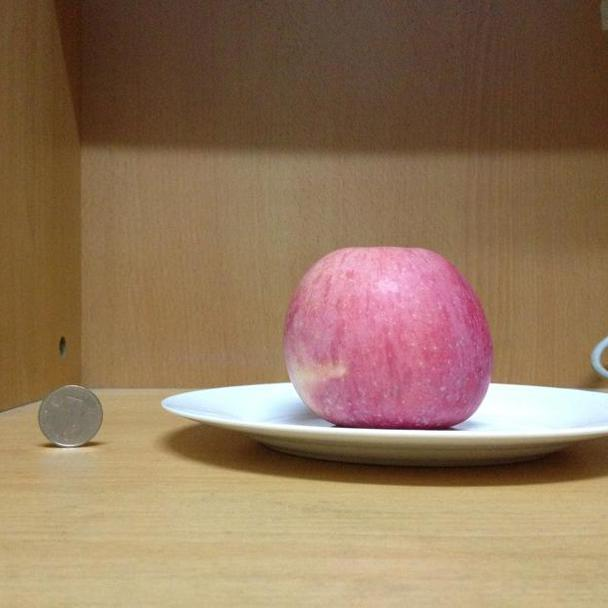apple: (282, 248, 495, 432)
